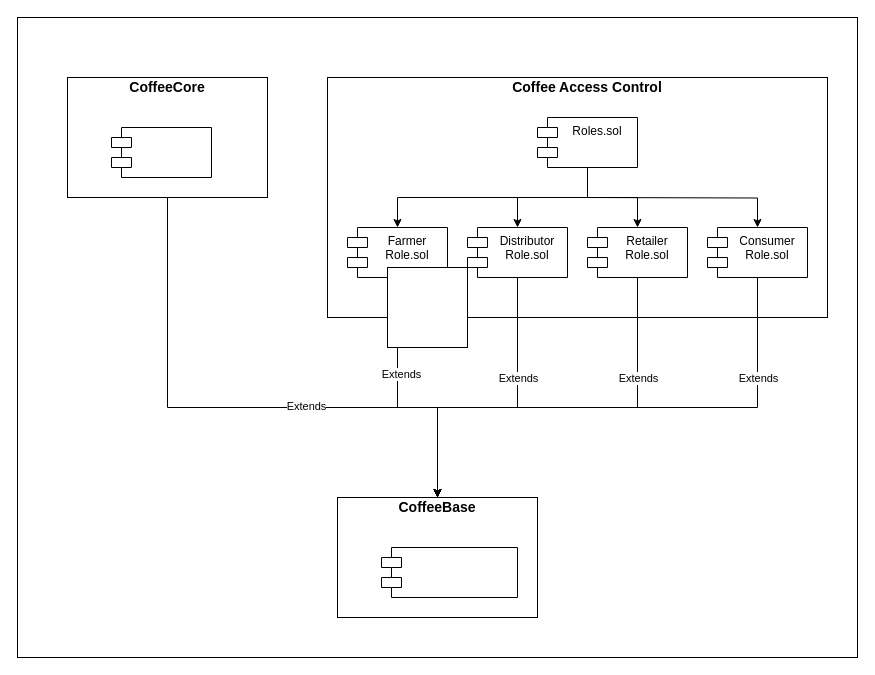
The diagram is 875 pixels wide and 675 high, and some of its shapes have lost their labels. The centre of each missing label's shape, as x and y in pixels:
"Ownable.sol" belongs at (x=161, y=152).
"SupplyChain.sol" belongs at (x=449, y=572).
